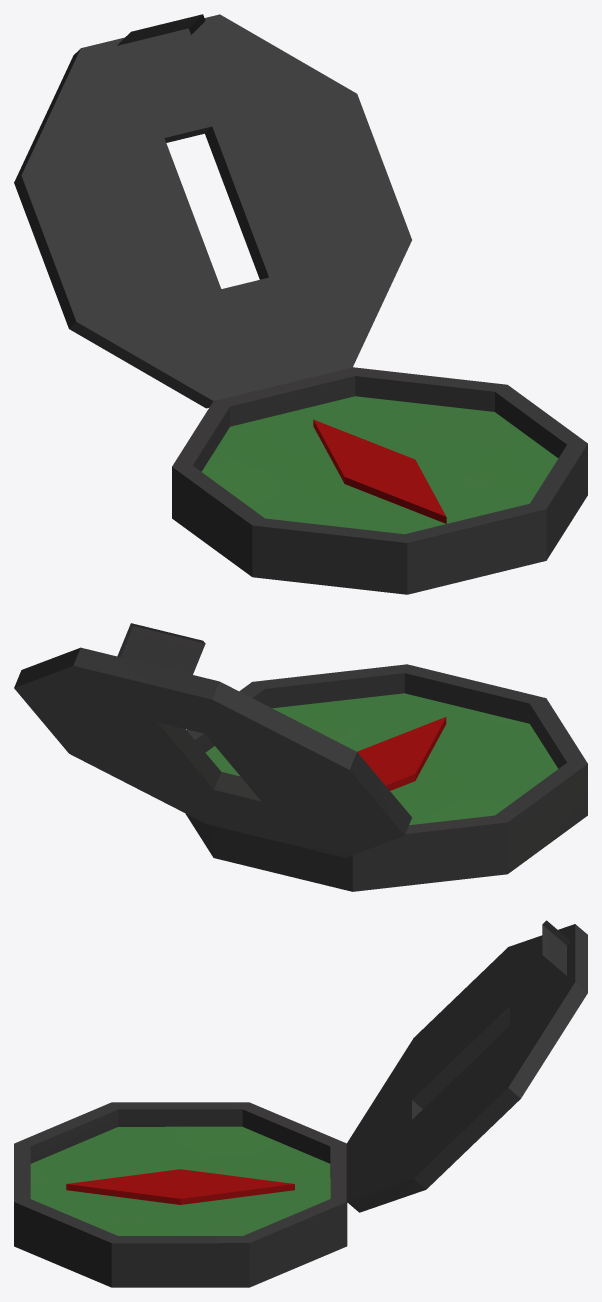
Rendered from Compass.fbx.
The picture shows the model from 3 angles, top to bottom: view 1: azimuth 30°, elevation 25°; view 2: azimuth 150°, elevation 25°; view 3: azimuth 270°, elevation 25°; orthographic projection. The views are drawn at different scales.
Visible parts, largest first — view 1: Lid, Compass, Needle; view 2: Compass, Lid, Needle; view 3: Compass, Lid, Needle.
Part boxes in pixels (x1,y1,x2,y2): Lid: (14, 14, 411, 408); Compass: (172, 367, 587, 594); Needle: (313, 419, 446, 523); Compass: (185, 664, 587, 891); Lid: (14, 623, 411, 857); Needle: (357, 717, 446, 790); Compass: (14, 1102, 347, 1287); Lid: (346, 920, 587, 1212); Needle: (66, 1169, 294, 1204).
Bounding box in the file's own units: 6.51 × 6.08 × 11.22.
Materials: 1 (1 with a texture image).
